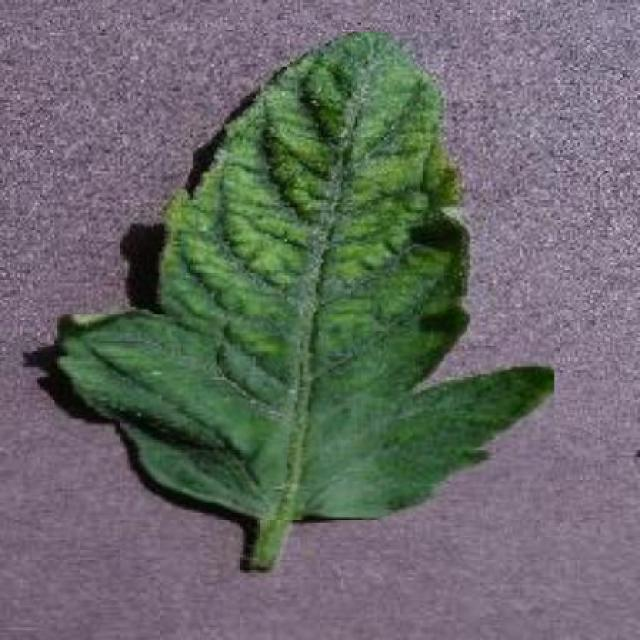Mosaic Virus: (55, 31, 554, 520)
